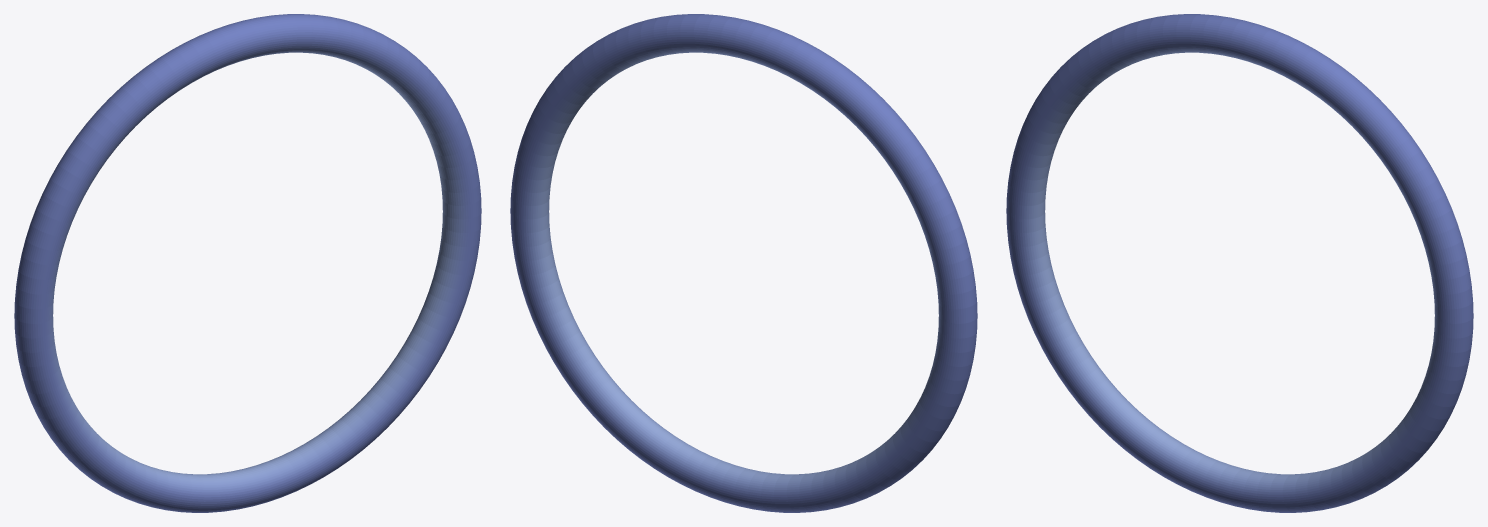
3 renders of one model, left to right at view 1: azimuth 30°, elevation 25°; view 2: azimuth 150°, elevation 25°; view 3: azimuth 330°, elevation 25°, orthographic.
Visible parts, largest first — view 1: world; view 2: world; view 3: world.
Boxes of the visible parts, x1,y1,x2,y2 form: world: (14,14,481,512); world: (510,14,977,512); world: (1006,14,1473,512).
Bounding box in the file's own units: 27.56 × 27.56 × 2.
